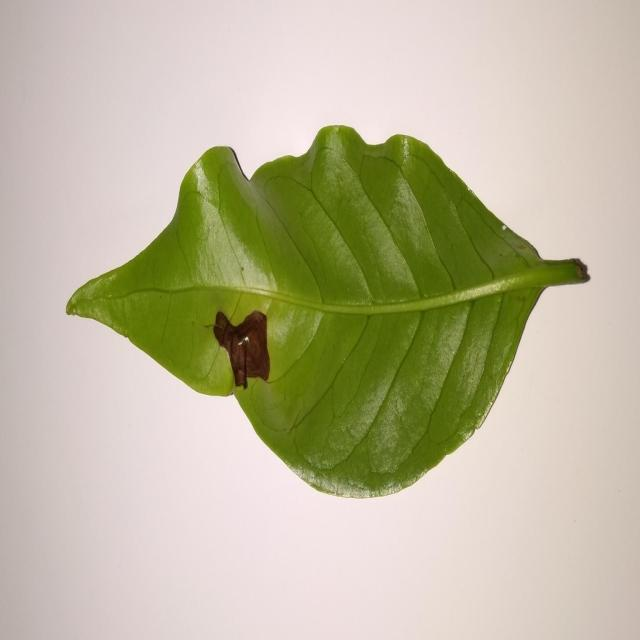phoma: (213, 310, 271, 389)
